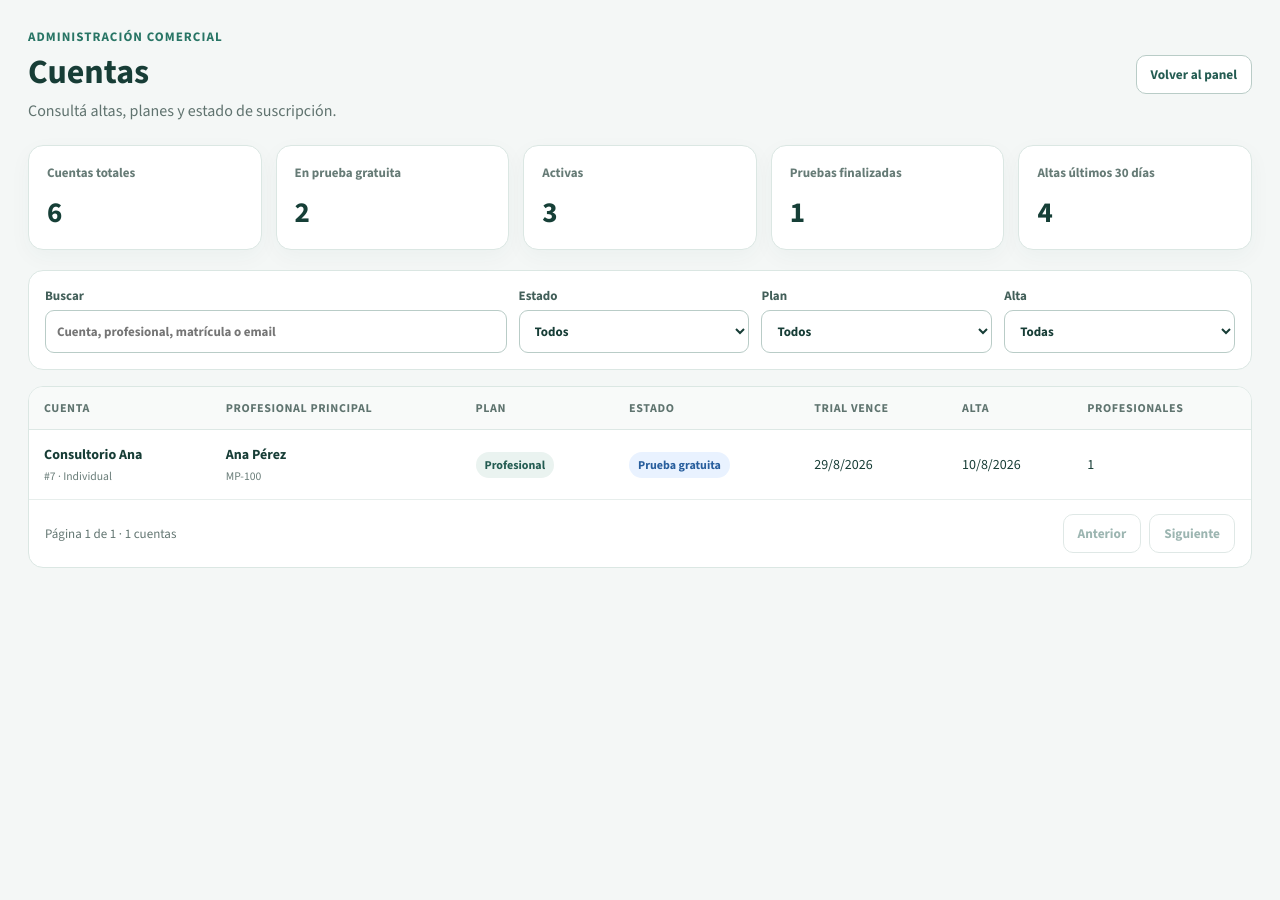
Scenario: panel administrativo de cuentas › muestra historial comercial
Click the button "Consultorio Ana" at (93, 454), box top-left (44, 445), bottom-right (142, 464)
(page scrolled)
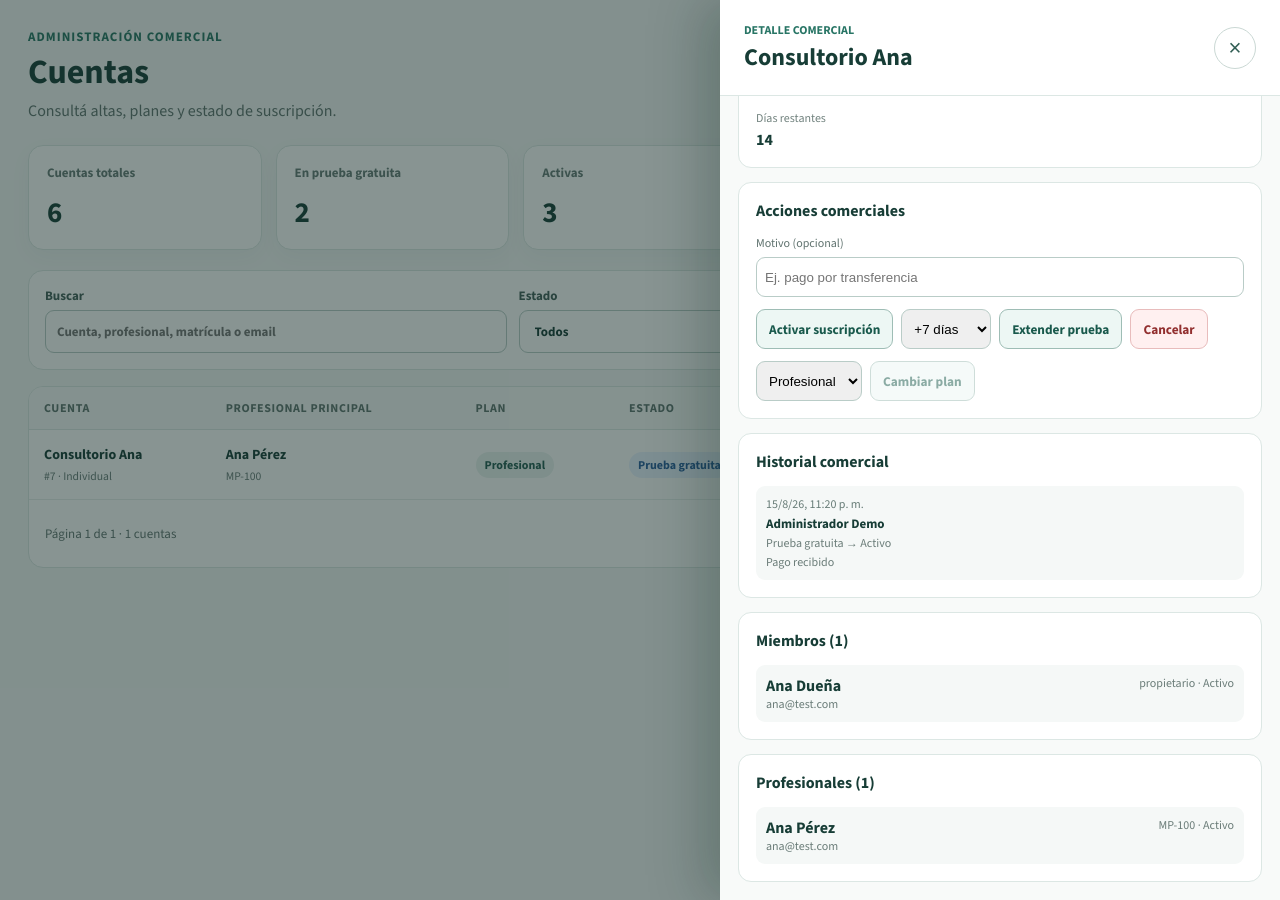
Result: the text "Administrador Demo" is shown at top-left (766, 515), bottom-right (885, 532)
Result: the text "Pago recibido" is shown at top-left (766, 554), bottom-right (834, 570)
